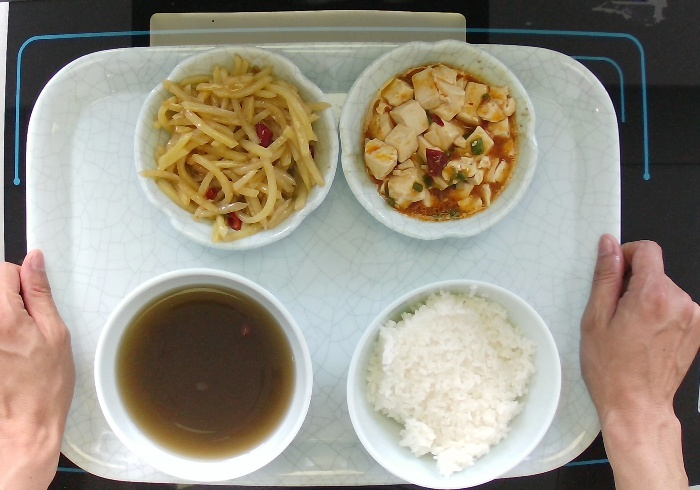JYsf-Ao_Yuan_Wan: (132, 43, 340, 252), (338, 37, 540, 241)
JYsf-Fan_Wan: (92, 265, 315, 483), (344, 276, 563, 490)
